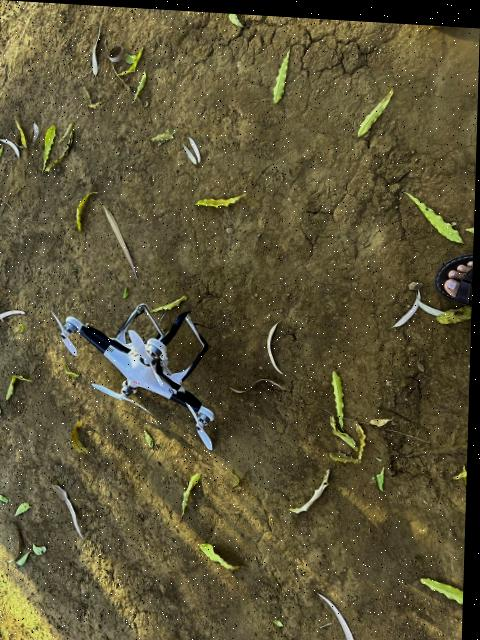drone: (47, 297, 224, 442)
